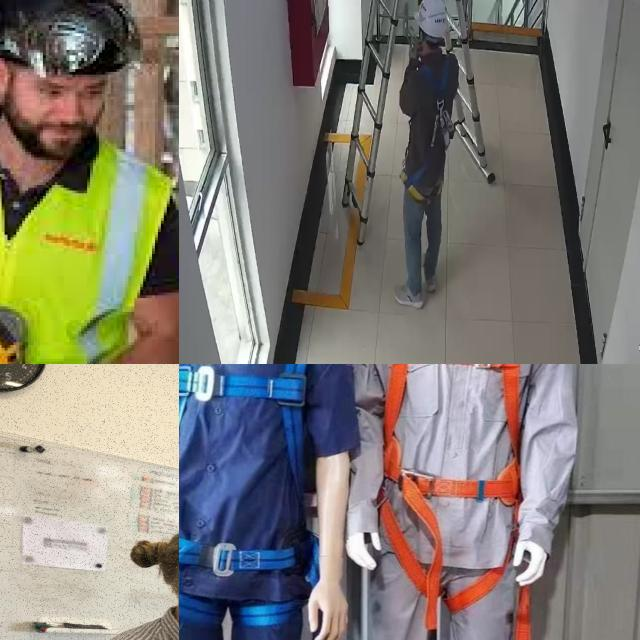Ear-protection: (126, 515, 179, 640)
Harness: (374, 364, 537, 614), (179, 364, 322, 633), (411, 57, 451, 191)
hand_glove: (0, 127, 171, 364)
head_helmet: (0, 0, 146, 71)
person: (0, 0, 179, 364)
